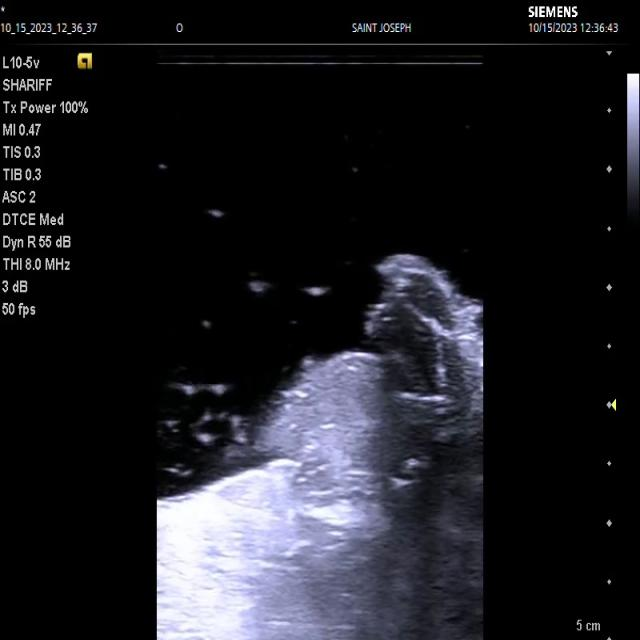tissue: (157, 254, 483, 640)
